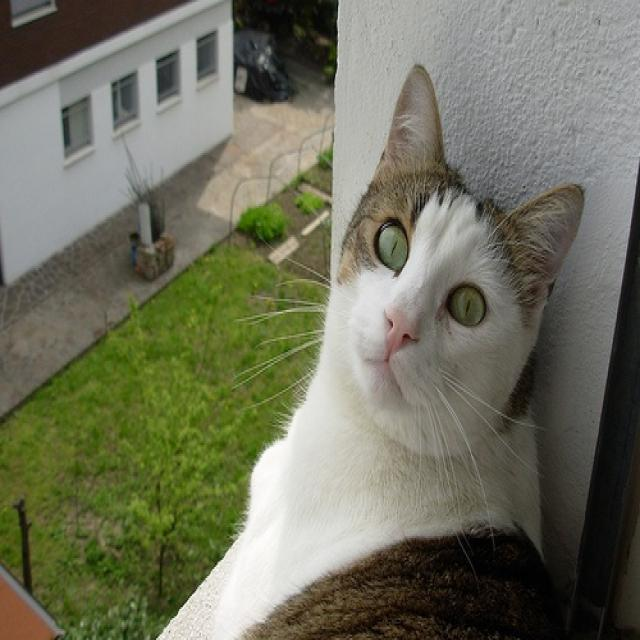cat: (209, 64, 585, 638)
